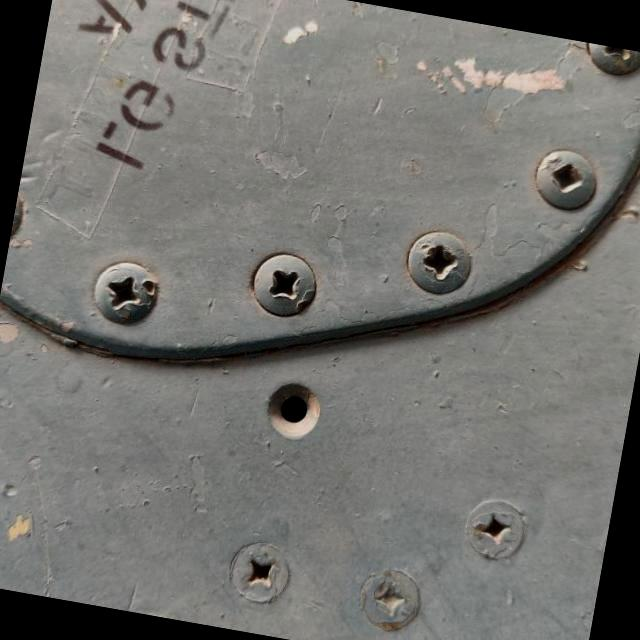Missing Fastener: (258, 382, 322, 448)
